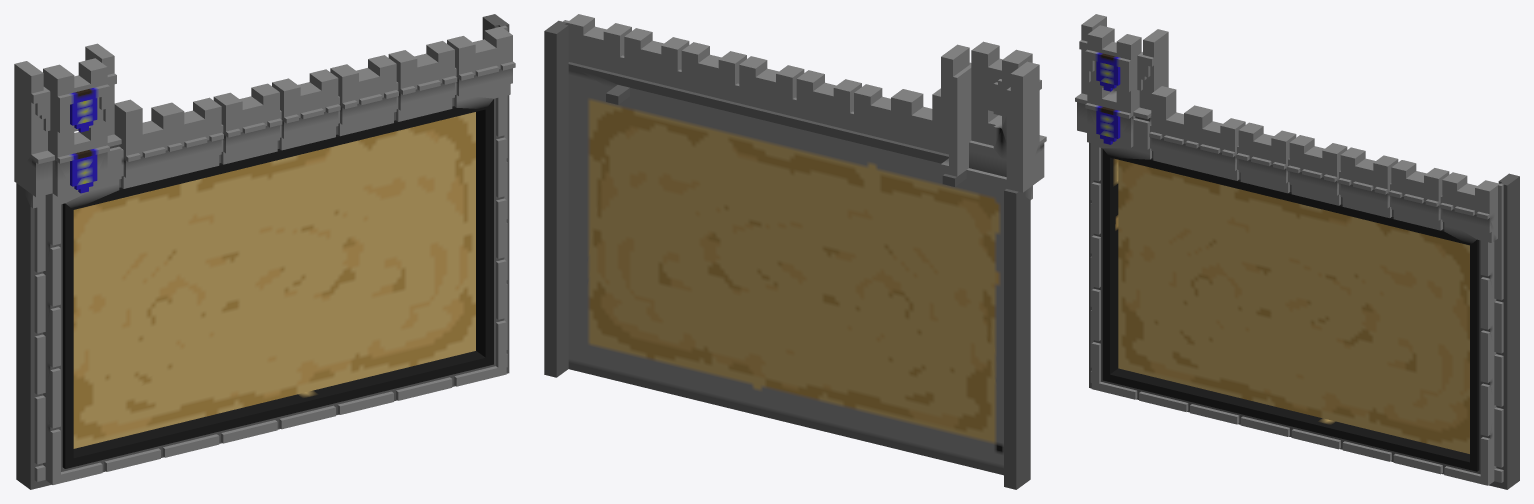
The model's file is Side Board Left.fbx.
3 views of the same model, side by side, from view 1: azimuth 30°, elevation 25°; view 2: azimuth 150°, elevation 25°; view 3: azimuth 330°, elevation 25° (orthographic). The views are drawn at different scales.
Visible parts, largest first — view 1: Side_Board_Left.Merged; view 2: Side_Board_Left.Merged; view 3: Side_Board_Left.Merged.
Part boxes in pixels (bbox=[...]): Side_Board_Left.Merged: bbox=[14, 14, 515, 489]; Side_Board_Left.Merged: bbox=[544, 14, 1046, 489]; Side_Board_Left.Merged: bbox=[1075, 14, 1519, 489].
Size of the model in its own units: 23200 by 19200 by 2600.
